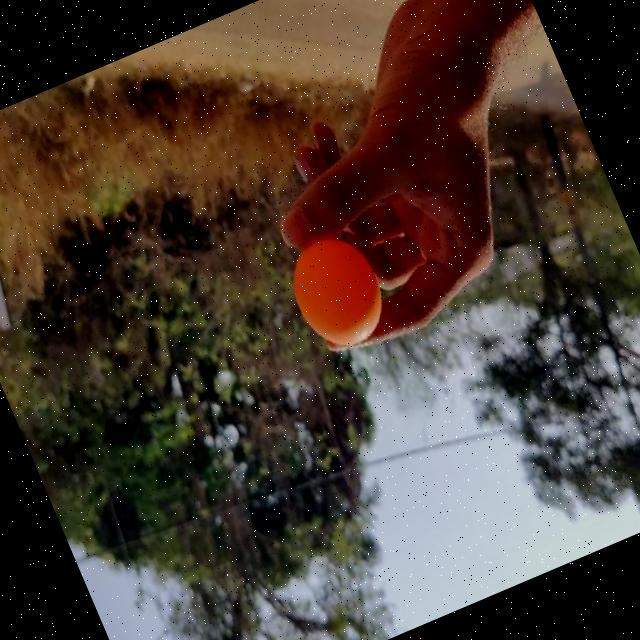ping-pong-ball: (277, 225, 397, 362)
